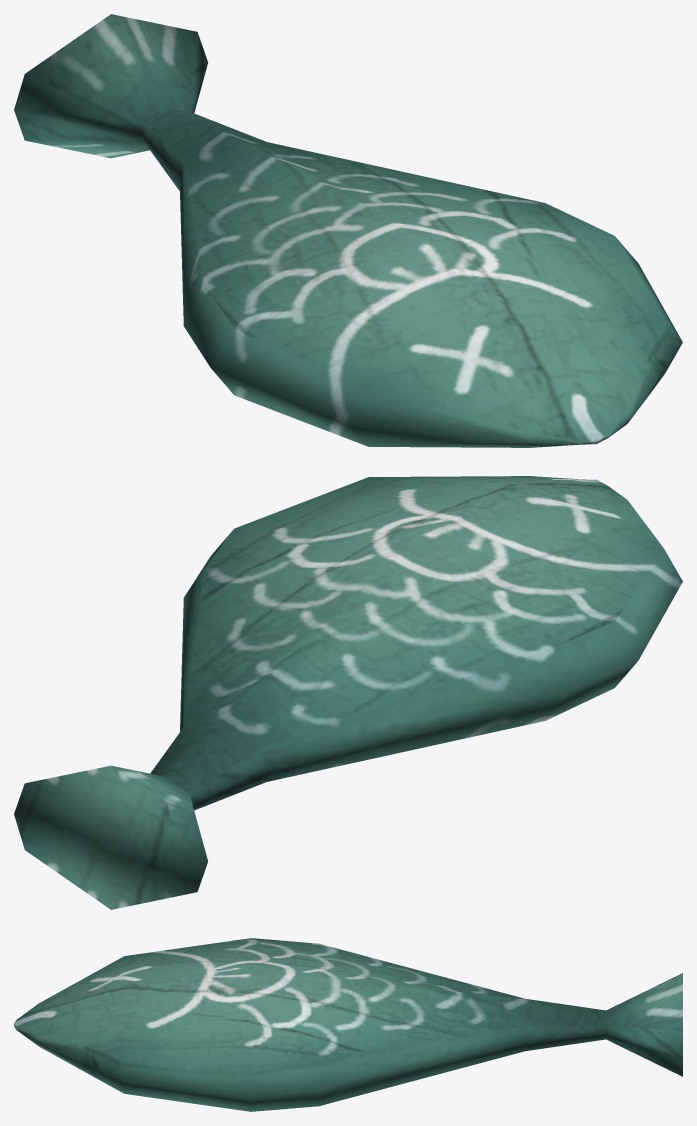
File: M_FishmaceA_2.glb
3 views of the same model, one above another, from view 1: azimuth 30°, elevation 25°; view 2: azimuth 150°, elevation 25°; view 3: azimuth 270°, elevation 25° (orthographic). The views are drawn at different scales.
Parts seen in each view (by area): view 1: SM_FishmaceA; view 2: SM_FishmaceA; view 3: SM_FishmaceA.
Part boxes in pixels (x1,y1,x2,y2): SM_FishmaceA: (14, 14, 682, 447); SM_FishmaceA: (14, 476, 682, 909); SM_FishmaceA: (14, 938, 682, 1111).
Bounding box in the file's own units: 0.452 × 0.1457 × 0.8884.
1 material, 1 textured.
